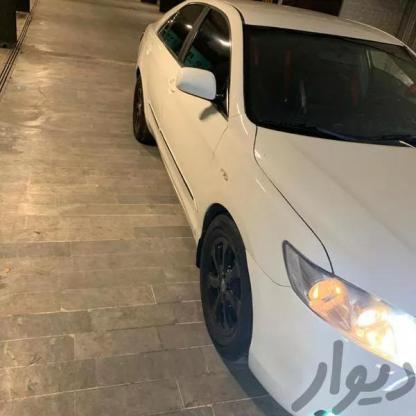Car: (122, 0, 416, 416)
